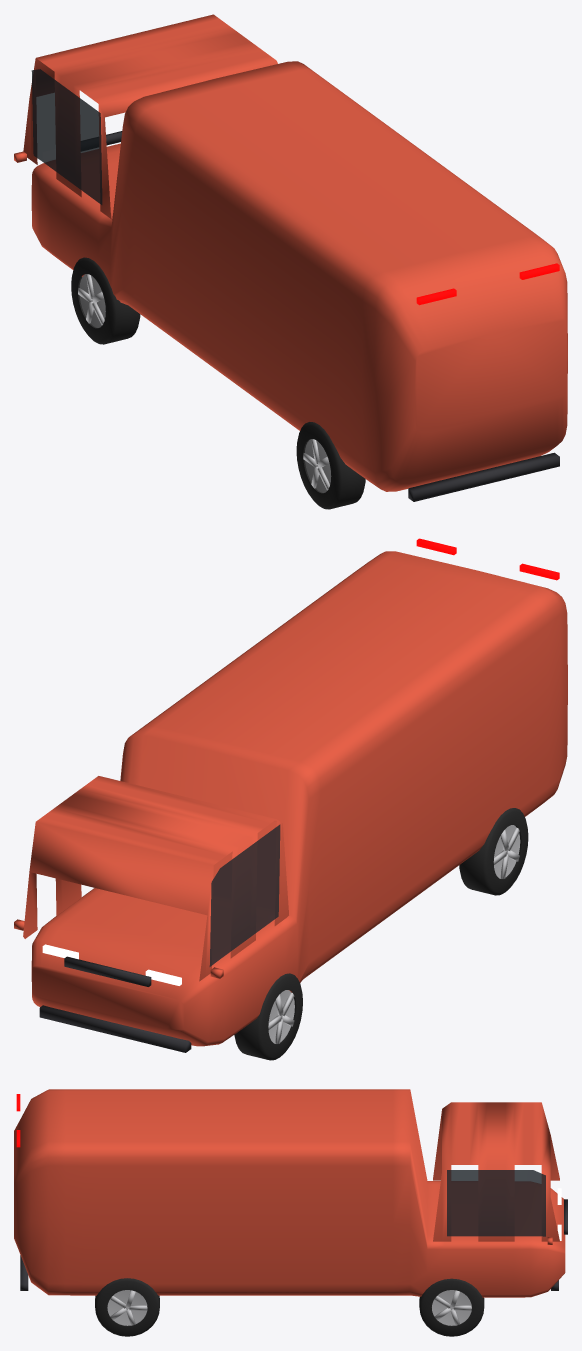
Rendered from tr03_lorry.glb.
3 views of the same model, one above another, from view 1: azimuth 30°, elevation 25°; view 2: azimuth 150°, elevation 25°; view 3: azimuth 270°, elevation 25° (orthographic). The views are drawn at different scales.
Parts seen in each view (by area): view 1: tr03_lorry_Body, tr03_lorry_Cabin, tr03_lorry_Glass, tr03_lorry_Wheel_RL, tr03_lorry_Wheel_FL, tr03_lorry_Lights_Rear; view 2: tr03_lorry_Body, tr03_lorry_Cabin, tr03_lorry_Glass, tr03_lorry_Wheel_RL, tr03_lorry_Wheel_FL, tr03_lorry_Lights_Rear, tr03_lorry_Lights_Front; view 3: tr03_lorry_Body, tr03_lorry_Cabin, tr03_lorry_Glass, tr03_lorry_Wheel_RR, tr03_lorry_Wheel_FR.
Boxes of the visible parts, bbox=[...] form: tr03_lorry_Body: bbox=[14, 61, 567, 501]; tr03_lorry_Cabin: bbox=[23, 14, 277, 219]; tr03_lorry_Glass: bbox=[31, 69, 102, 204]; tr03_lorry_Wheel_RL: bbox=[296, 422, 365, 509]; tr03_lorry_Wheel_FL: bbox=[71, 257, 140, 344]; tr03_lorry_Lights_Rear: bbox=[416, 263, 559, 305]; tr03_lorry_Body: bbox=[14, 551, 567, 1052]; tr03_lorry_Cabin: bbox=[23, 776, 288, 981]; tr03_lorry_Glass: bbox=[209, 824, 280, 966]; tr03_lorry_Wheel_RL: bbox=[459, 808, 528, 895]; tr03_lorry_Wheel_FL: bbox=[234, 973, 302, 1060]; tr03_lorry_Lights_Rear: bbox=[416, 538, 559, 580]; tr03_lorry_Lights_Front: bbox=[42, 944, 181, 985]; tr03_lorry_Body: bbox=[14, 1089, 567, 1297]; tr03_lorry_Cabin: bbox=[433, 1102, 559, 1241]; tr03_lorry_Glass: bbox=[447, 1170, 545, 1236]; tr03_lorry_Wheel_RR: bbox=[95, 1278, 159, 1336]; tr03_lorry_Wheel_FR: bbox=[419, 1278, 484, 1336].
Size of what is drawn, in the model's own units: 2.64 by 3.2 by 8.54.
